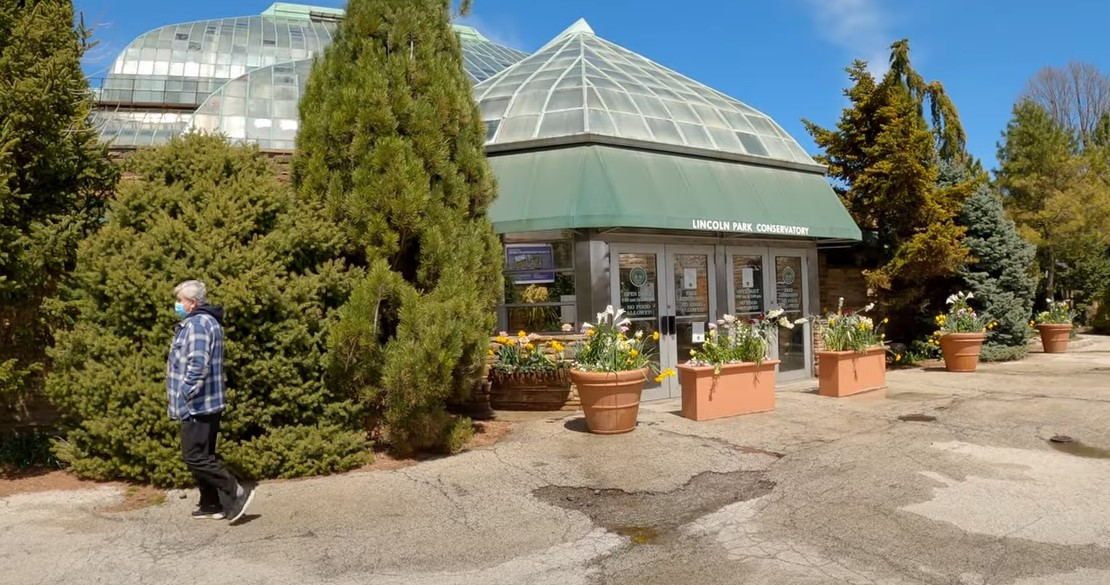face_with_mask: (173, 283, 206, 321)
